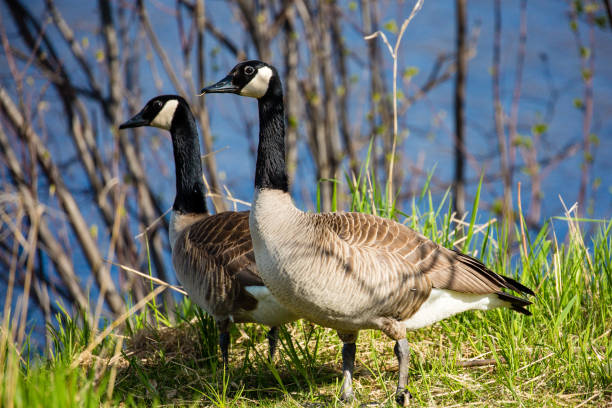goose: (199, 59, 535, 404), (114, 91, 302, 373)
